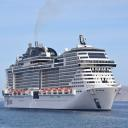cruises: (3, 34, 123, 113)
